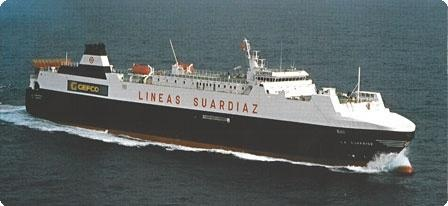Cargoship: (27, 40, 419, 171)
